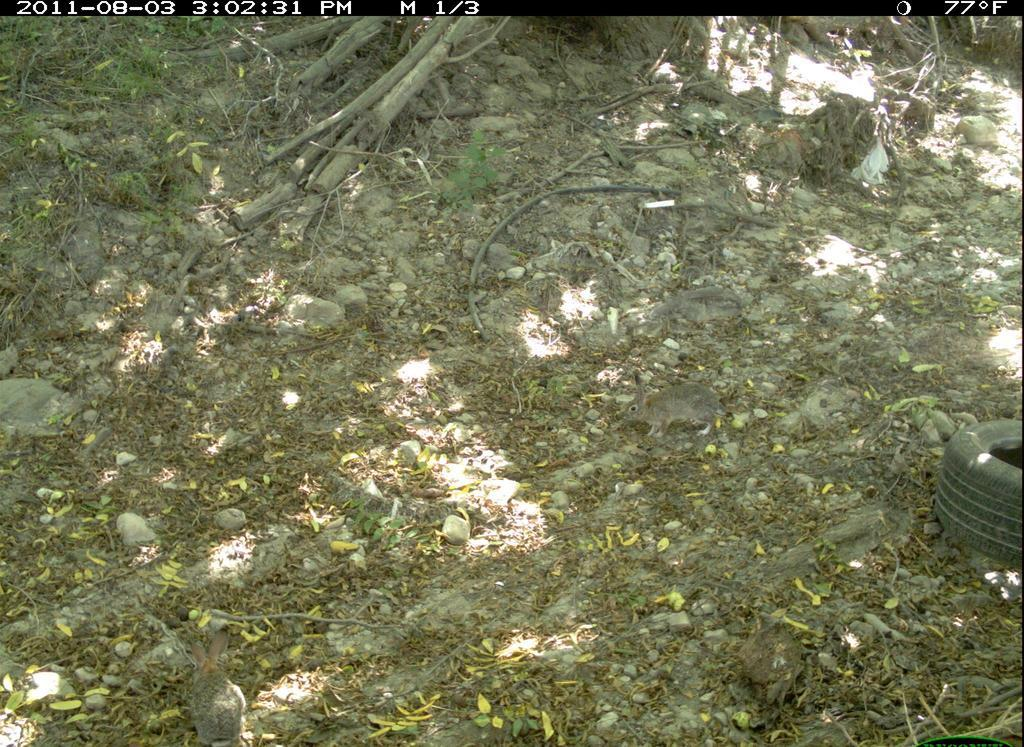rabbit: (617, 361, 737, 459), (177, 624, 274, 744)
